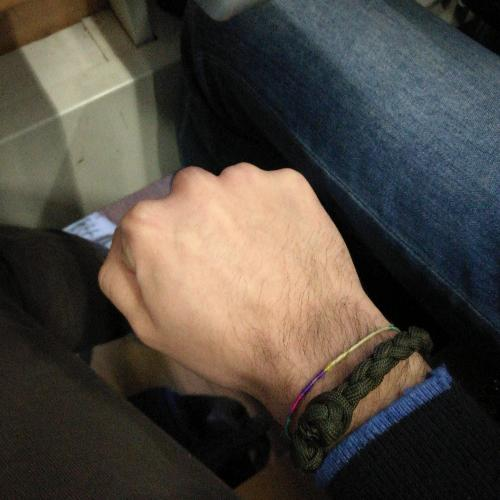rock: (89, 147, 376, 390)
